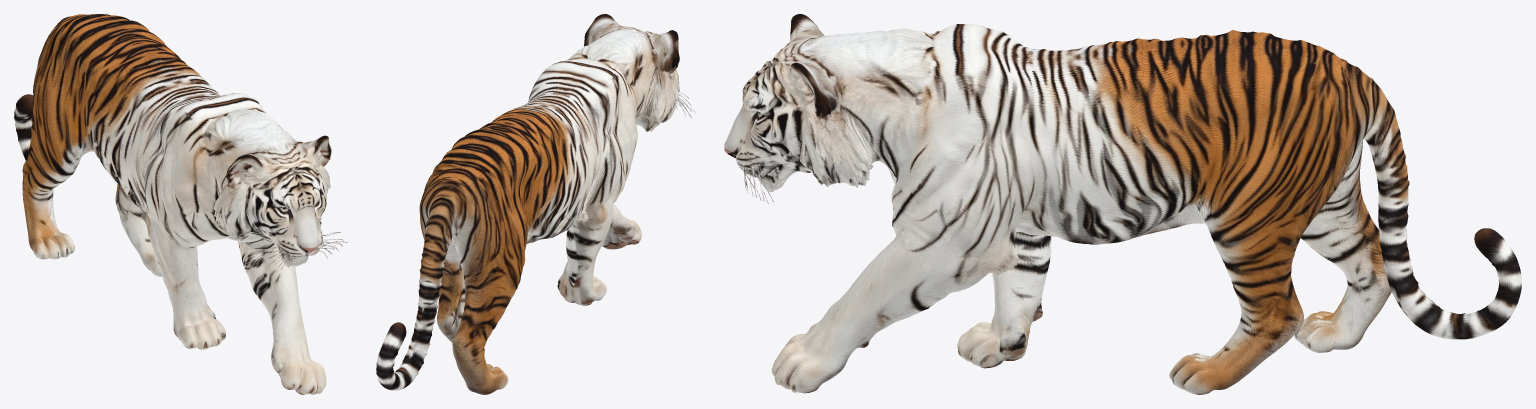
The model's file is white_black_tiger_3d_model_free-optimized.glb.
The picture shows the model from 3 angles, left to right: view 1: azimuth 30°, elevation 25°; view 2: azimuth 150°, elevation 25°; view 3: azimuth 270°, elevation 25°; orthographic projection. The views are drawn at different scales.
Visible parts, largest first — view 1: Object_4, Object_5, Object_7, Object_6; view 2: Object_6, Object_7, Object_5, Object_4; view 3: Object_6, Object_7, Object_5, Object_4.
Boxes of the visible parts, x1,y1,x2,y2 form: Object_4: [22, 52, 347, 394]; Object_5: [138, 93, 331, 375]; Object_7: [14, 29, 258, 348]; Object_6: [22, 14, 260, 269]; Object_6: [411, 61, 636, 394]; Object_7: [376, 61, 635, 394]; Object_5: [533, 26, 679, 249]; Object_4: [393, 14, 695, 392]; Object_6: [940, 27, 1416, 394]; Object_7: [945, 24, 1521, 394]; Object_5: [809, 24, 1014, 390]; Object_4: [724, 14, 1486, 393].
Bounding box in the file's own units: 0.4205 × 0.8816 × 1.9.
1 material, 1 textured.
